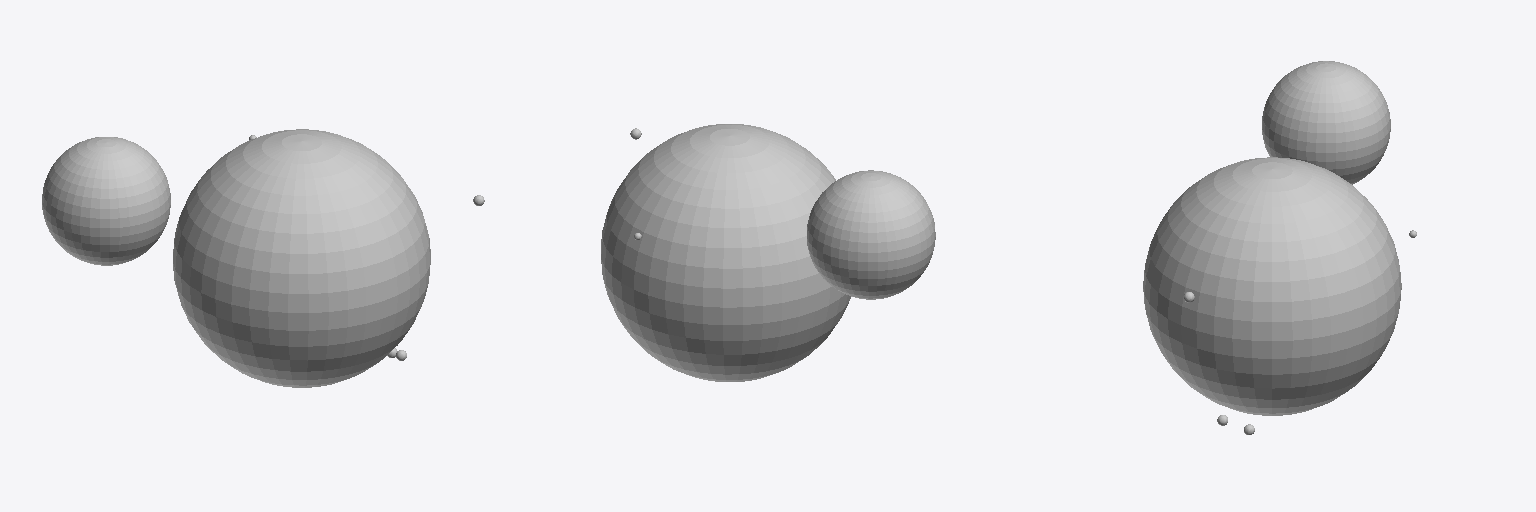
Rendered from bulles_eau_petites.obj.
The picture shows the model from 3 angles: view 1: azimuth 30°, elevation 25°; view 2: azimuth 150°, elevation 25°; view 3: azimuth 270°, elevation 25°; orthographic projection.
Visible parts, largest first — view 1: Sphère.15; view 2: Sphère.15; view 3: Sphère.15.
Part boxes in pixels (left/top/right/bottom): Sphère.15: left=42, top=129, right=484, bottom=387; Sphère.15: left=601, top=124, right=935, bottom=381; Sphère.15: left=1143, top=61, right=1416, bottom=434.
Size of the model in its own units: 11.39 by 7.6 by 7.41.